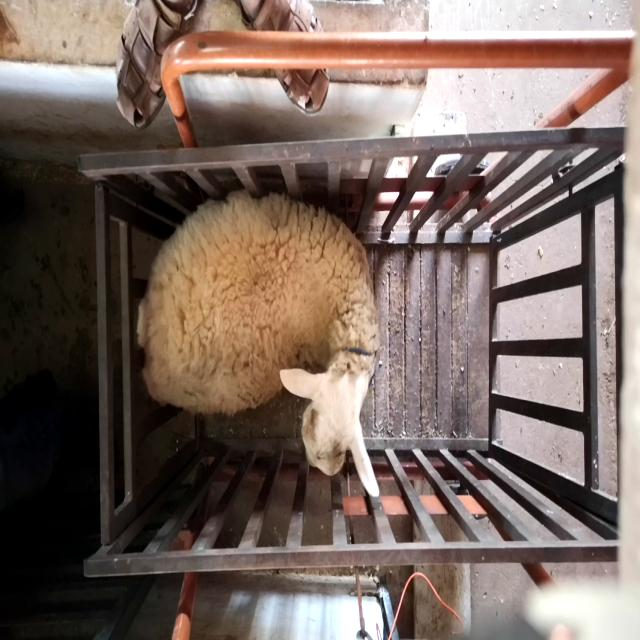sheep: (137, 190, 380, 498)
